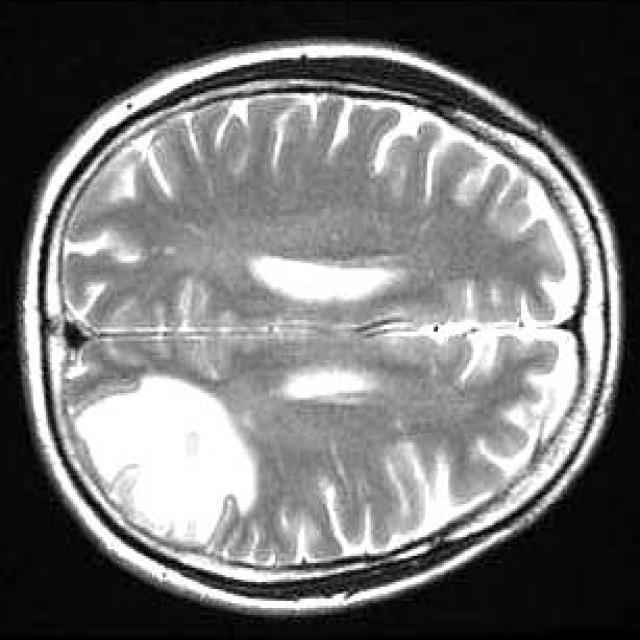tumor: (77, 368, 261, 550)
